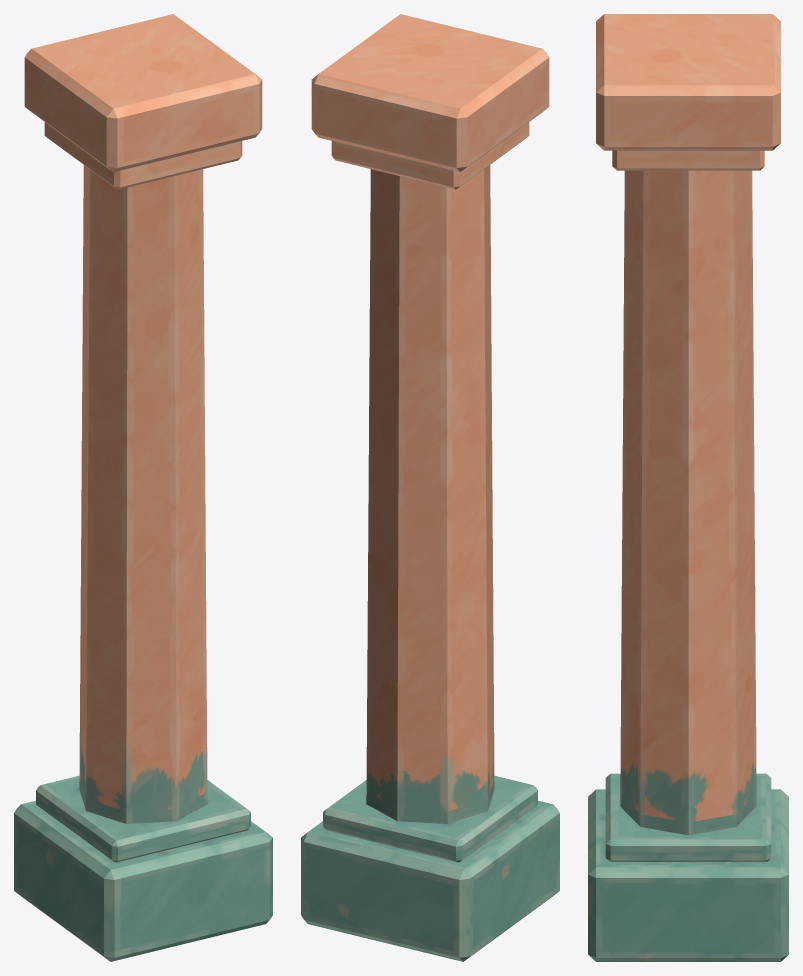
Rendered from pillar.fbx.
3 views of the same model, side by side, from view 1: azimuth 30°, elevation 25°; view 2: azimuth 150°, elevation 25°; view 3: azimuth 270°, elevation 25° (orthographic). The views are drawn at different scales.
Parts seen in each view (by area): view 1: pillar; view 2: pillar; view 3: pillar.
Part boxes in pixels (x1=…): pillar: x1=14, y1=14, x2=272, y2=961; pillar: x1=301, y1=14, x2=559, y2=961; pillar: x1=588, y1=14, x2=788, y2=961.
Size of the model in its own units: 2.5 by 12 by 2.5.
1 material, 1 textured.
